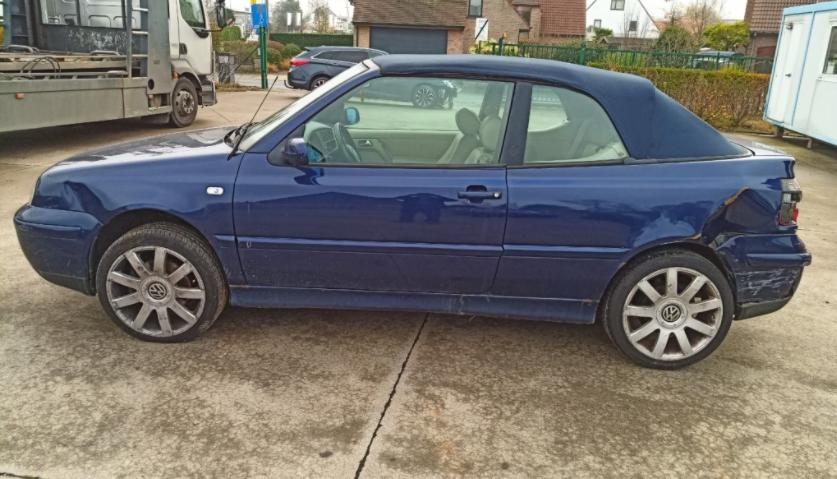Back-bumper: (712, 233, 810, 320)
Back-wheel: (603, 248, 735, 367)
Back-window: (524, 86, 628, 163)
Fender: (32, 156, 246, 283)
Front-bumper: (14, 207, 96, 294)
Front-door: (233, 75, 514, 294)
Front-wheel: (96, 221, 228, 343)
Front-window: (303, 75, 513, 165)
Hood: (40, 125, 239, 174)
Mirror: (284, 139, 307, 166)
Quarter-panel: (489, 155, 797, 302)
Rocker-panel: (231, 287, 597, 325)
Roof: (374, 53, 650, 84)
Tail-light: (778, 178, 802, 225)
Trunk: (723, 133, 786, 156)
Windshield: (233, 63, 368, 150)
